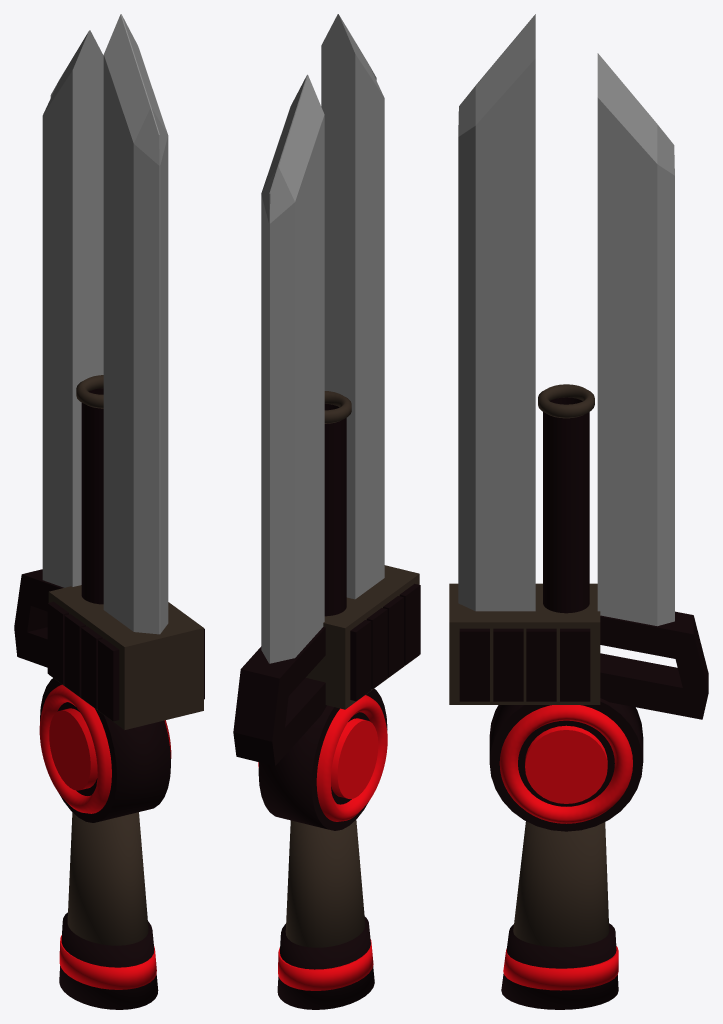
Rendered from меч рыцарь.fbx.
The picture shows the model from 3 angles, left to right: view 1: azimuth 30°, elevation 25°; view 2: azimuth 150°, elevation 25°; view 3: azimuth 270°, elevation 25°; orthographic projection.
Visible parts, largest first — view 1: меч.001; view 2: меч.001; view 3: меч.001.
Boxes of the visible parts, bbox=[...] form: меч.001: bbox=[14, 14, 204, 1009]; меч.001: bbox=[233, 14, 420, 1009]; меч.001: bbox=[449, 14, 708, 1009].
Size of the model in its own units: 45.82 by 469 by 113.
